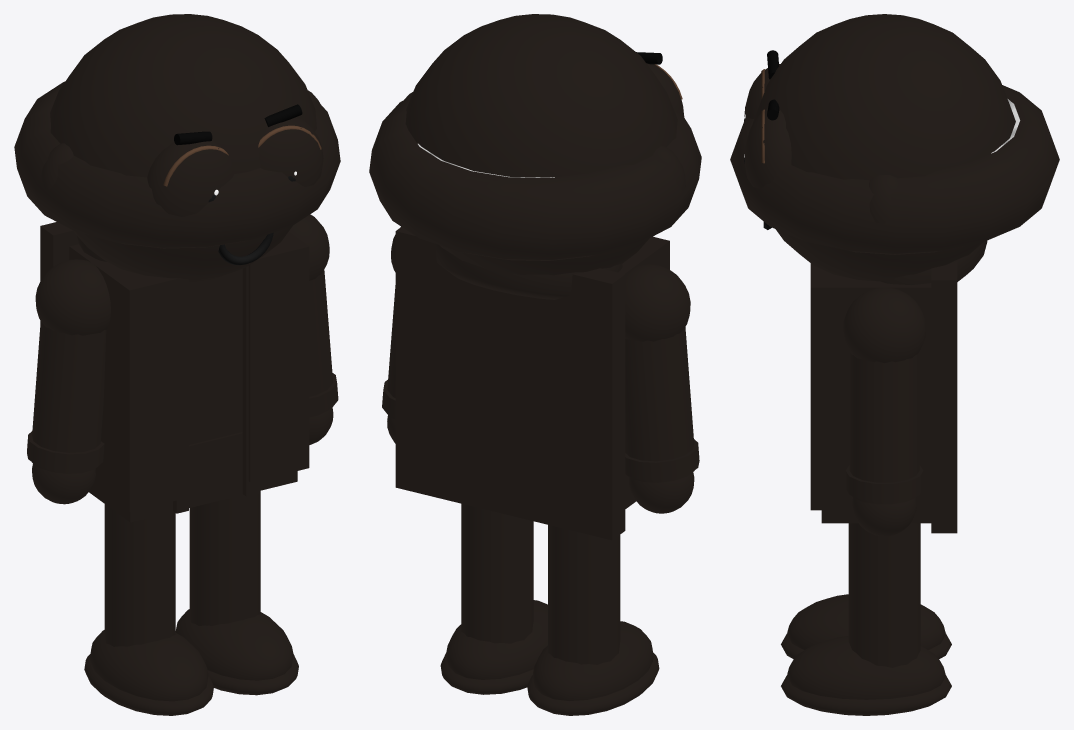
Rendered from grafite.glb.
3 renders of one model, left to right at view 1: azimuth 30°, elevation 25°; view 2: azimuth 150°, elevation 25°; view 3: azimuth 270°, elevation 25°, orthographic.
Parts seen in each view (by area): view 1: malha__contorno (×25), malha__semsombra; view 2: malha__contorno (×18); view 3: malha__contorno (×18).
Boxes of the visible parts, x1=… form: malha__contorno (×25): x1=14, y1=14, x2=340, y2=715; malha__semsombra: x1=218, y1=232, x2=273, y2=265; malha__contorno (×18): x1=369, y1=14, x2=701, y2=715; malha__contorno (×18): x1=730, y1=14, x2=1059, y2=715.
Bounding box in the file's own units: 0.7722 × 1.61 × 0.7306.
21 materials, 11 textured.
